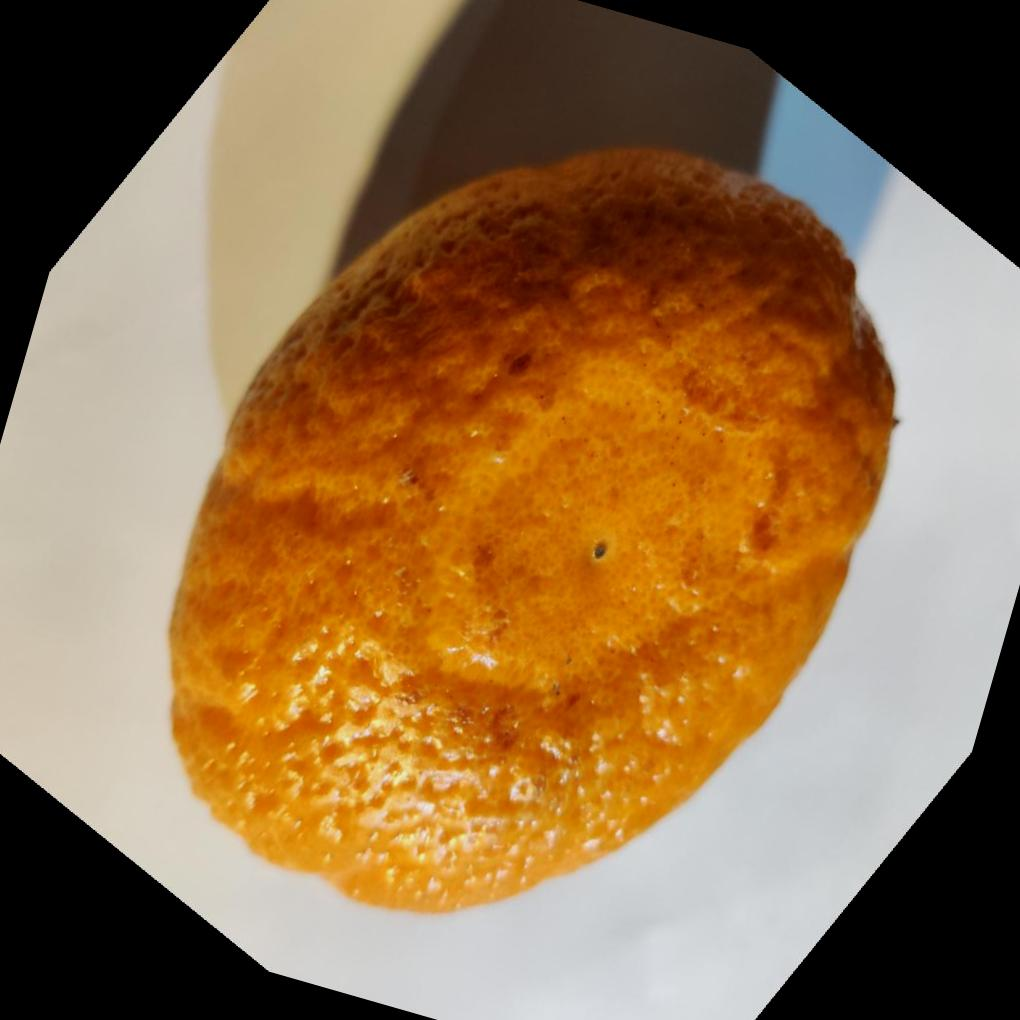FreshGuava: (167, 138, 903, 914)
